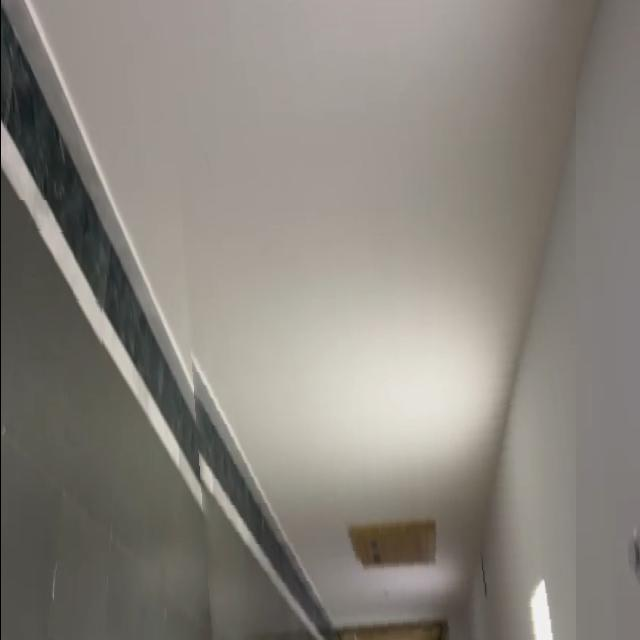floor: (0, 200, 103, 640)
wall: (166, 0, 575, 640)
